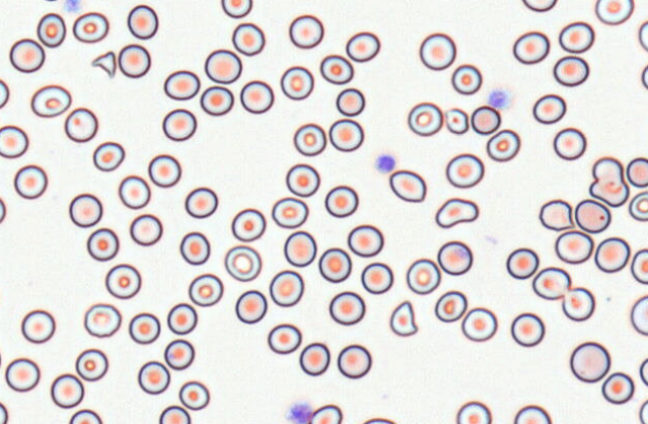PLT: (286, 399, 313, 424), (488, 88, 513, 109), (374, 154, 396, 172)
RBC: (588, 156, 629, 207), (569, 341, 610, 383), (419, 32, 456, 70), (224, 244, 261, 281), (554, 229, 593, 264), (445, 153, 484, 188), (30, 84, 71, 117), (594, 236, 630, 273), (83, 302, 121, 337), (105, 263, 141, 299), (574, 198, 611, 233), (269, 269, 304, 306), (532, 266, 570, 300), (4, 357, 40, 392), (461, 307, 497, 342), (405, 258, 440, 294), (9, 38, 45, 73), (407, 101, 443, 136), (328, 291, 365, 325), (204, 49, 241, 83), (512, 30, 549, 64), (388, 169, 426, 202), (437, 240, 472, 275), (288, 14, 324, 48), (283, 230, 316, 267), (561, 286, 595, 321), (50, 373, 84, 408), (20, 309, 55, 343), (510, 312, 544, 347), (336, 344, 371, 378), (13, 164, 47, 199), (285, 163, 320, 197), (64, 107, 98, 142), (280, 65, 314, 100), (328, 118, 363, 152), (318, 247, 351, 283), (347, 224, 383, 257), (271, 196, 308, 228), (72, 11, 109, 43), (68, 193, 102, 227), (231, 22, 265, 56), (188, 273, 223, 306), (117, 43, 150, 78), (231, 208, 266, 241), (239, 80, 274, 113), (558, 21, 594, 53), (163, 69, 200, 100), (137, 360, 170, 394), (86, 227, 119, 261), (148, 153, 181, 187), (486, 128, 520, 161), (162, 108, 196, 141), (293, 122, 326, 156), (235, 289, 267, 324), (118, 174, 150, 209), (126, 4, 158, 39), (553, 55, 589, 86), (601, 371, 634, 404), (75, 348, 108, 381), (360, 261, 393, 294), (129, 213, 162, 246), (553, 127, 586, 160), (505, 247, 539, 279), (324, 185, 358, 217), (345, 31, 380, 62), (434, 290, 467, 322), (184, 186, 217, 218), (299, 342, 330, 376), (267, 323, 301, 354), (179, 231, 210, 265), (532, 93, 566, 124), (36, 12, 66, 47), (128, 312, 160, 344), (200, 85, 233, 116), (319, 54, 353, 84), (594, 0, 634, 25), (166, 302, 197, 334), (451, 63, 482, 95), (164, 338, 194, 370), (92, 141, 124, 171), (0, 124, 28, 158), (178, 380, 209, 410), (470, 105, 500, 134), (335, 87, 364, 116), (455, 400, 491, 423), (513, 404, 551, 423), (630, 295, 647, 335), (444, 107, 469, 134), (626, 156, 647, 187), (630, 248, 647, 284), (310, 404, 342, 423), (158, 405, 190, 423), (628, 191, 647, 221), (221, 0, 252, 18), (68, 409, 102, 423), (521, 0, 557, 12), (638, 20, 647, 51), (0, 78, 9, 108), (639, 357, 648, 386), (63, 0, 82, 12), (639, 399, 648, 423), (361, 417, 396, 423), (0, 401, 8, 423), (0, 196, 6, 223), (641, 64, 647, 89), (0, 282, 3, 311), (40, 0, 62, 2)
Schistocyte: (435, 197, 479, 229), (390, 300, 420, 338), (542, 199, 574, 230), (92, 52, 117, 77)
